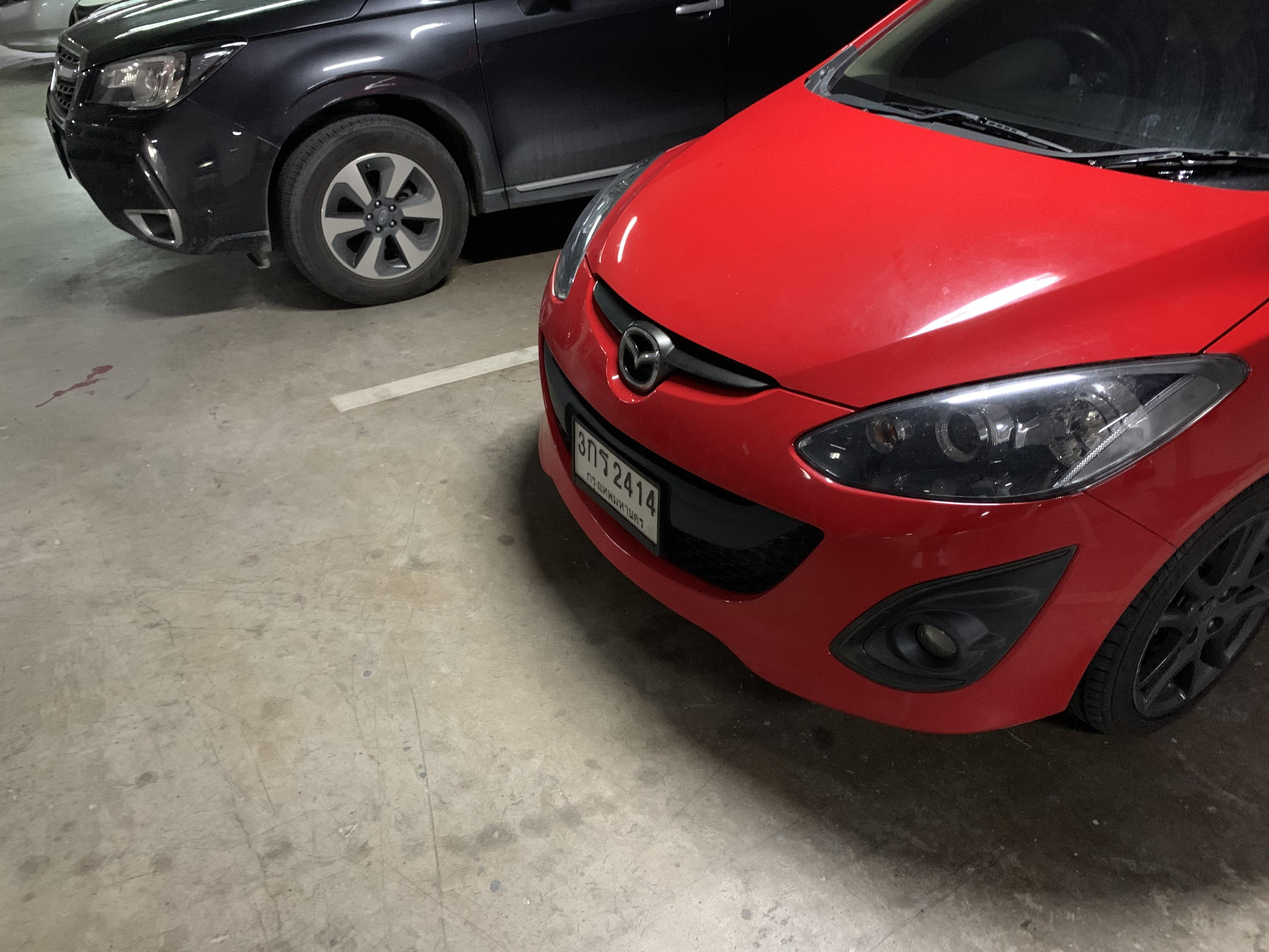license-plate: (569, 411, 666, 555)
